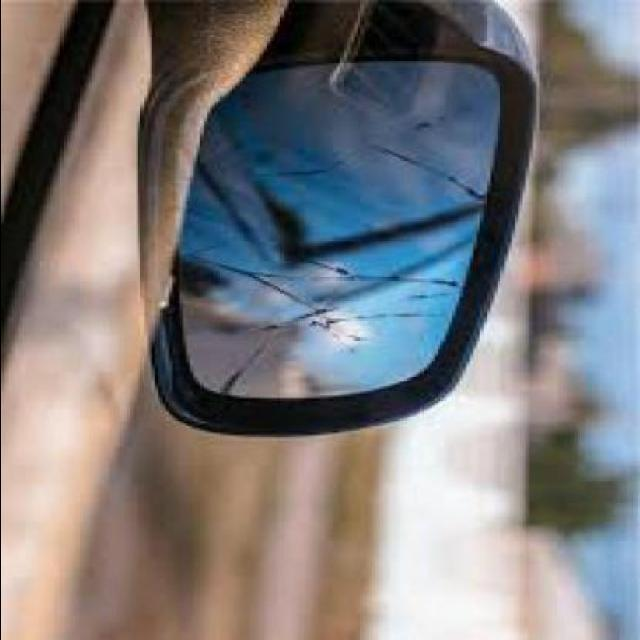Sidemirror-Damage: (126, 17, 556, 443)
